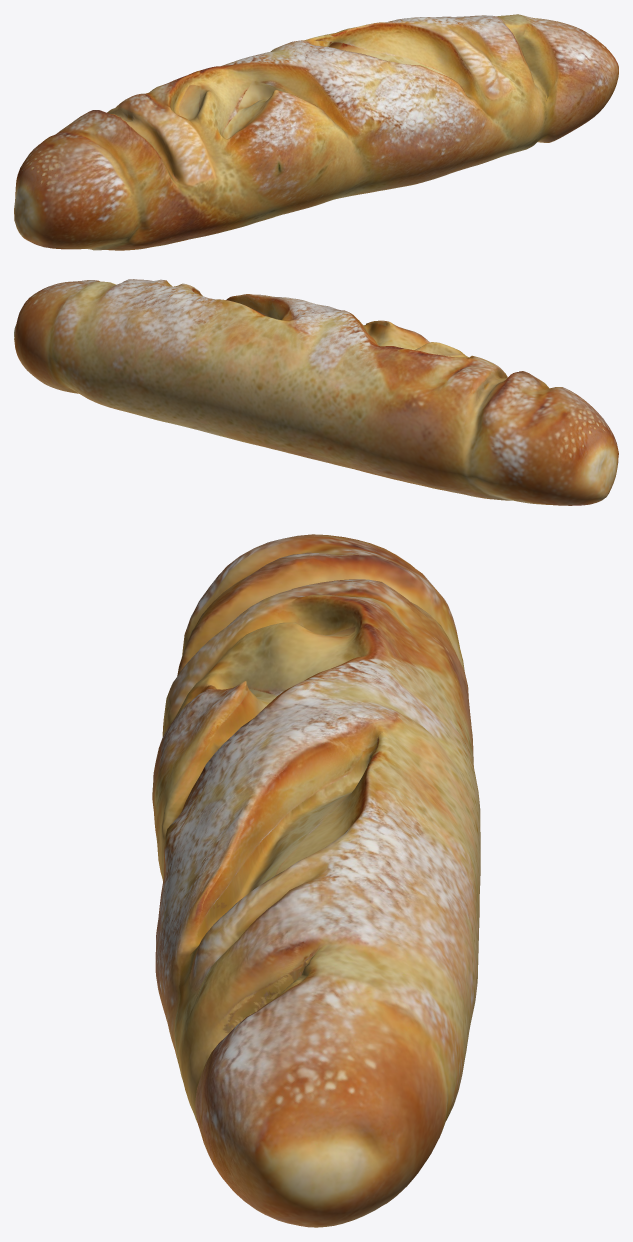
File: pan-flauta.glb
3 views of the same model, one above another, from view 1: azimuth 30°, elevation 25°; view 2: azimuth 150°, elevation 25°; view 3: azimuth 270°, elevation 25° (orthographic). The views are drawn at different scales.
Bounding box in the file's own units: 2 × 0.4643 × 0.4838.
Materials: 1 (1 with a texture image).
